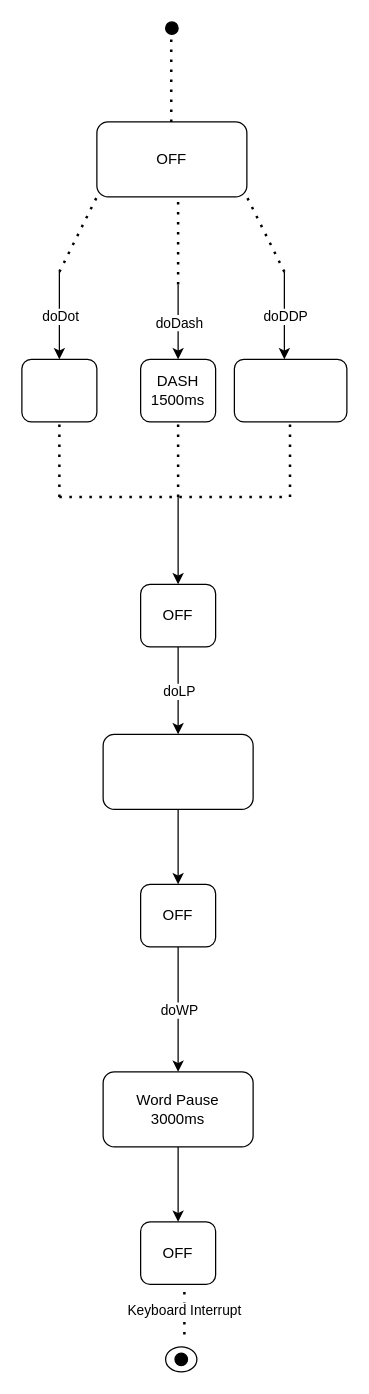
The diagram is 369 pixels wide and 1394 high, and some of its shapes have lost their labels. Here are the shapes that lost their labels. From the top down, the centre of each, then its label:
At [59,390]: "DOT 500ms".
At [290,390]: "DotDashPause 250ms".
At [177,771]: "Letter Pause 750ms".
